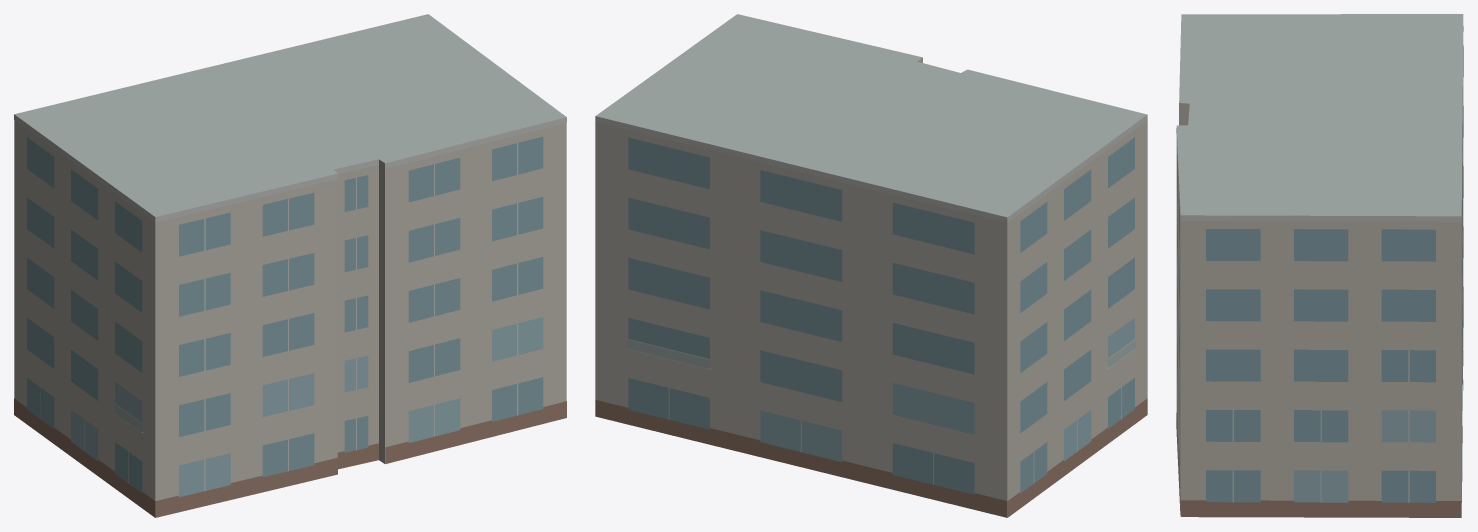
The model's file is survey-upis-32815095.glb.
The picture shows the model from 3 angles, left to right: view 1: azimuth 30°, elevation 25°; view 2: azimuth 150°, elevation 25°; view 3: azimuth 270°, elevation 25°; orthographic projection.
Visible parts, largest first — view 1: survey-upis-32815095.tmp; view 2: survey-upis-32815095.tmp; view 3: survey-upis-32815095.tmp.
Boxes of the visible parts, x1,y1,x2,y2 form: survey-upis-32815095.tmp: [14, 14, 566, 517]; survey-upis-32815095.tmp: [595, 14, 1147, 517]; survey-upis-32815095.tmp: [1176, 14, 1463, 517].
Bounding box in the file's own units: 18.87 × 13.1 × 11.31.
